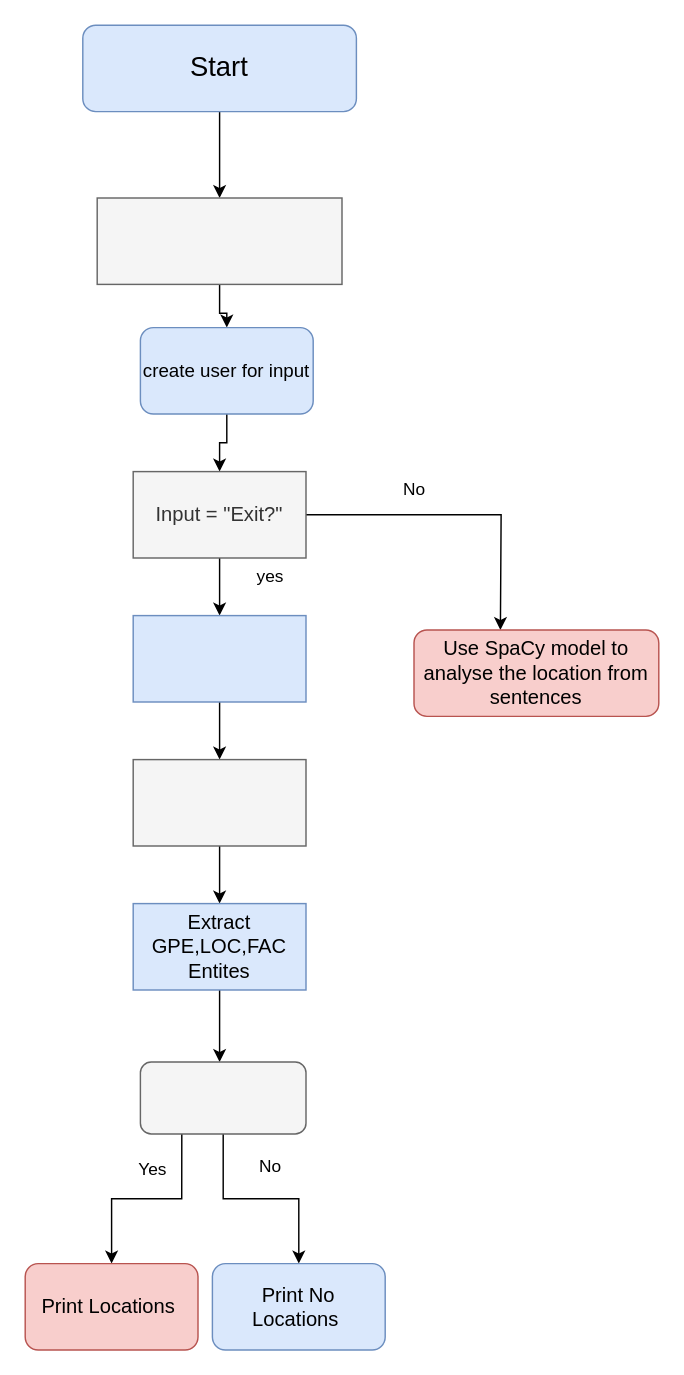
This 684x1375 diagram has some shape labels left out. The shapes that lost their labels are listed below. From the top down, each one's centre as x and y in pixels, then its label:
point 219,240: print "location Extractor"
point 219,658: Exit
point 219,802: Call Location Extraction
point 222,1097: Any Locations Found
